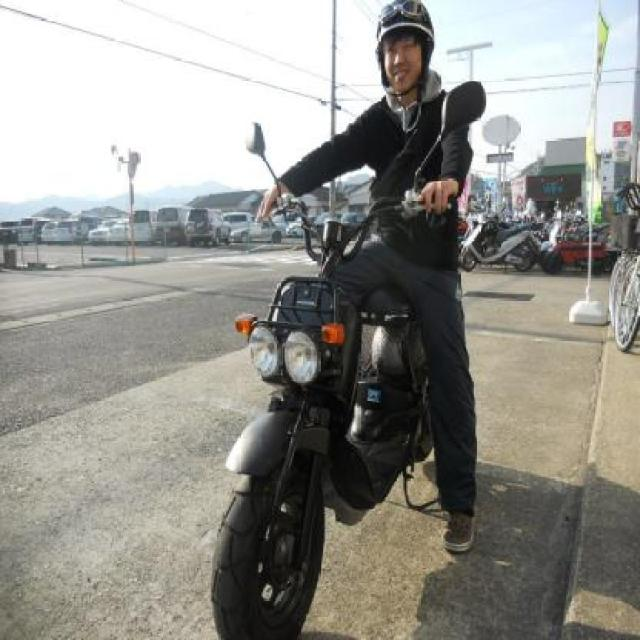helmet: (366, 2, 440, 109)
motorcycle: (206, 0, 529, 640)
